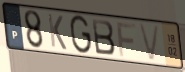8: (23, 8, 44, 50)
B: (90, 17, 117, 57)
F: (115, 22, 138, 59)
G: (69, 14, 93, 56)
K: (46, 12, 68, 52)
V: (137, 22, 162, 64)
